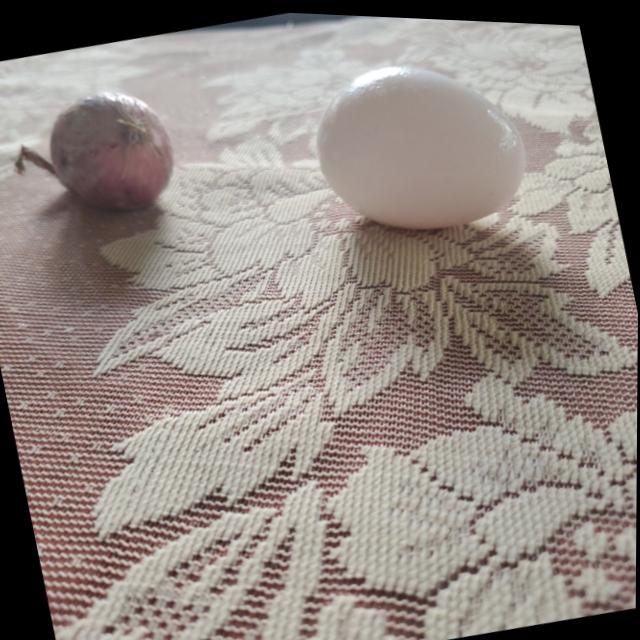egg: (300, 31, 530, 249)
onion: (39, 81, 181, 224)
